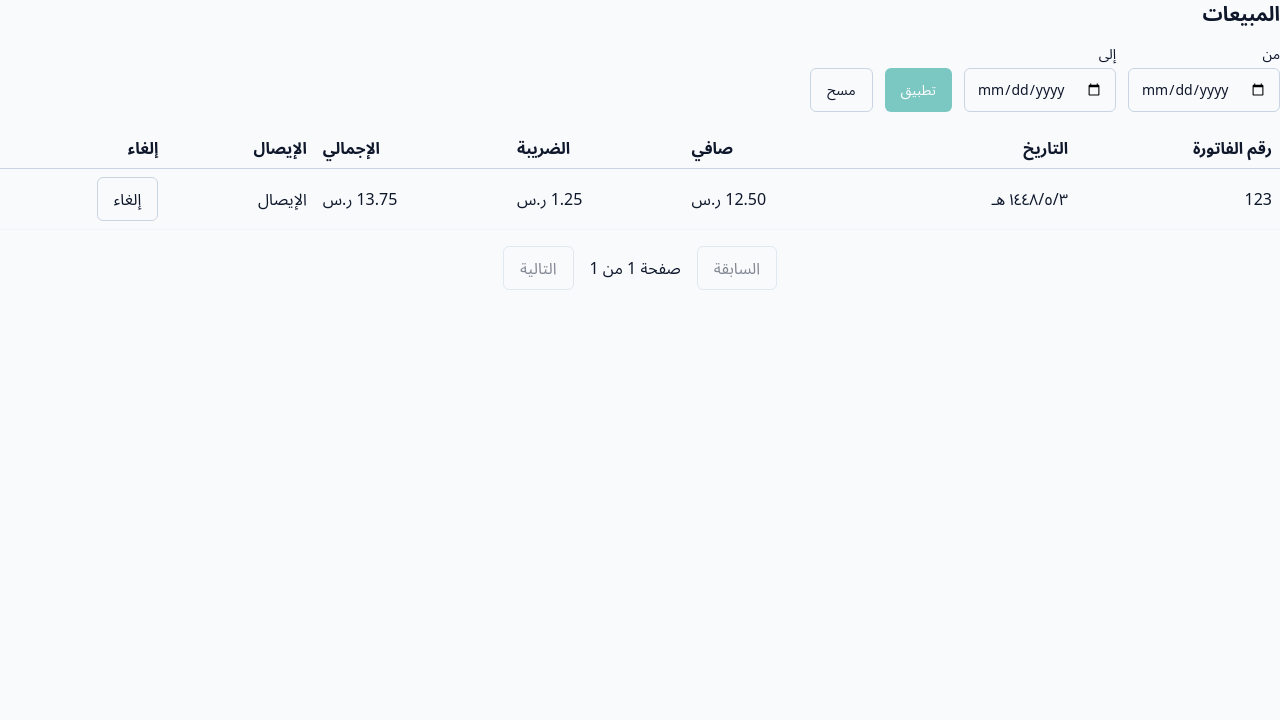
VoidSaleDialog › shows void.forbidden on 403
Check: the column heading "رقم الفاتورة" is shown, box left=1076, top=128, right=1279, bottom=168
Click the button "إلغاء".
click(128, 199)  # box left=97, top=177, right=158, bottom=221
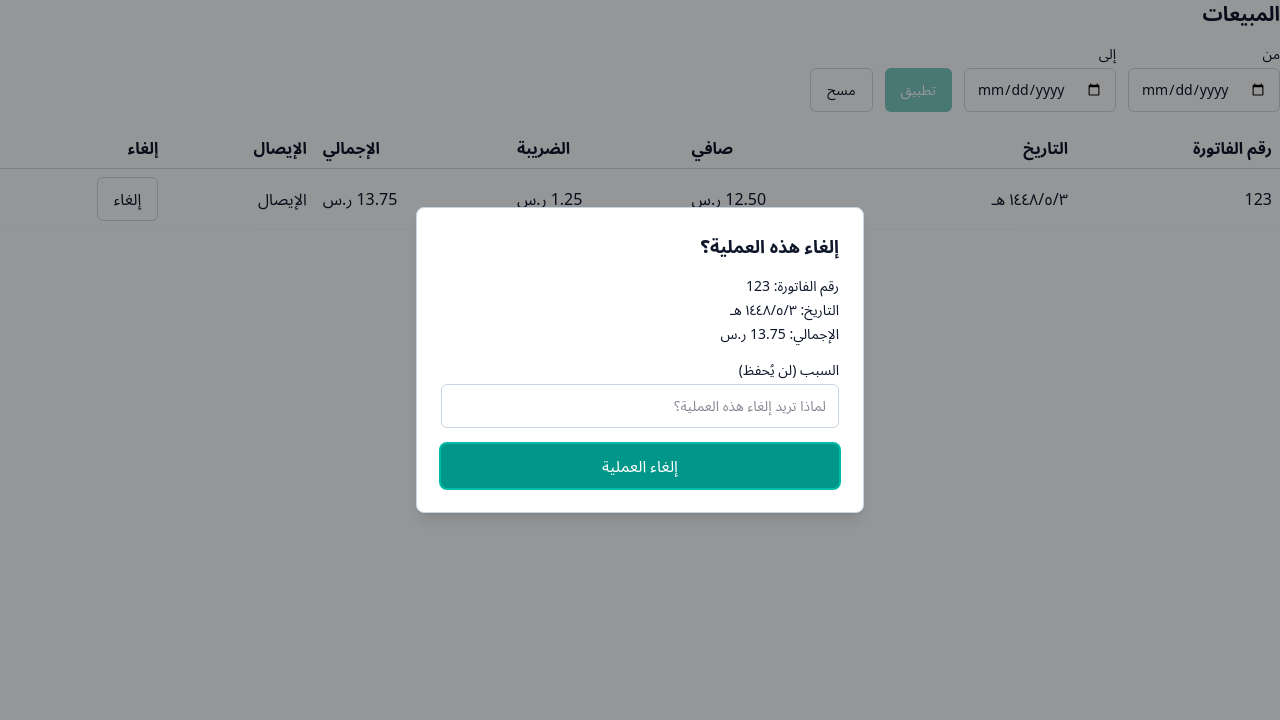
Check: the dialog is shown, box left=416, top=207, right=864, bottom=513
Click the button "إلغاء العملية".
click(640, 466)  # box left=441, top=444, right=839, bottom=488
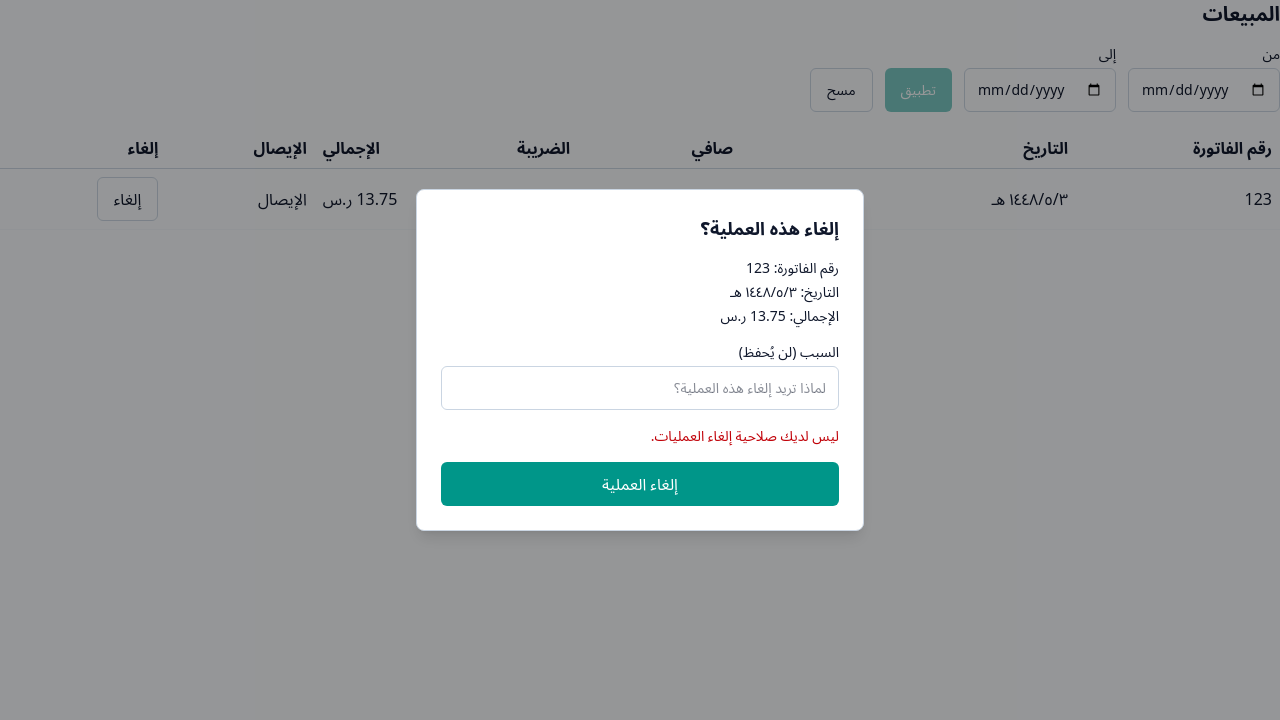
Check: the dialog is shown, box left=416, top=189, right=864, bottom=531
Check: the message reads "ليس لديك صلاحية إلغاء العمليات.", box left=651, top=426, right=839, bottom=445
